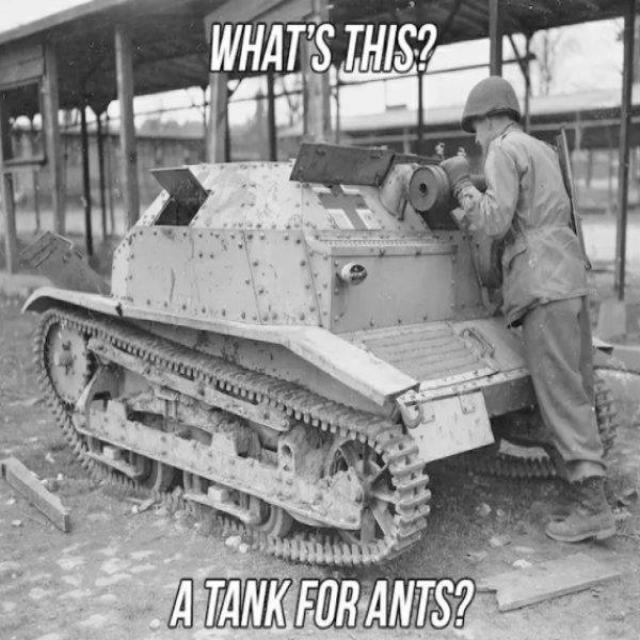Tanks: (16, 149, 615, 567)
